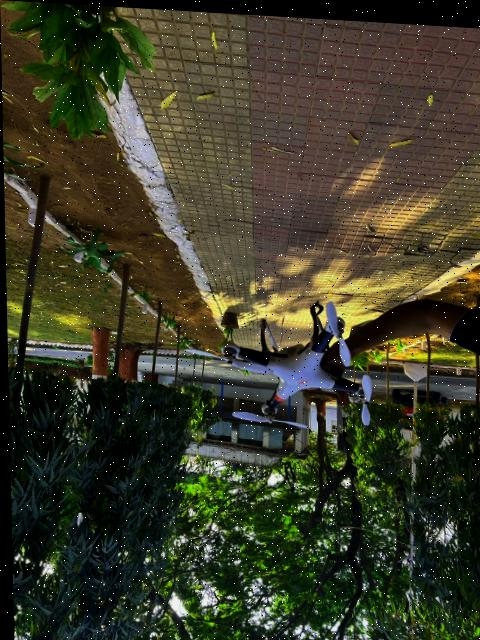drone: (198, 287, 379, 449)
